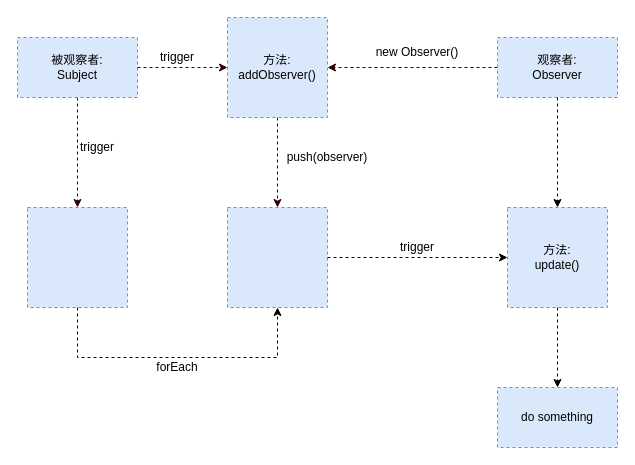
Some shapes in this 635 by 465 pixel diagram are drawn without their labels. Each missing label, with the centre of its shape:
"方法: notifyObservers()" belongs at point 77,257.
"观察者列表: subs:[]" belongs at point 277,257.
